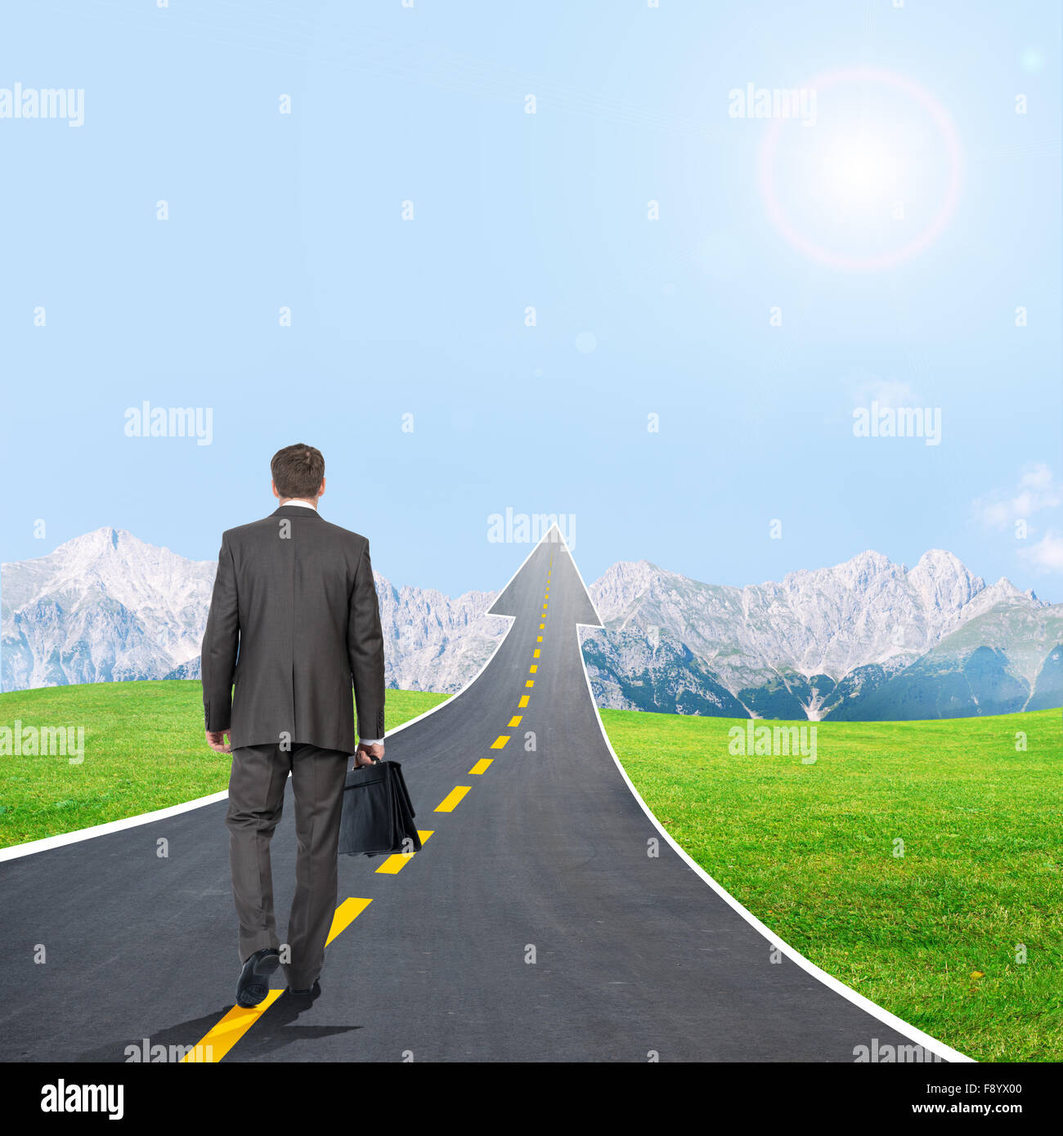Person: (185, 442, 429, 1022)
